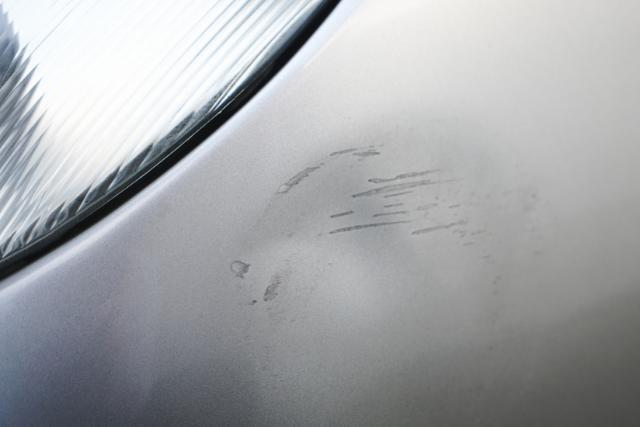Bumper: (225, 107, 481, 326)
